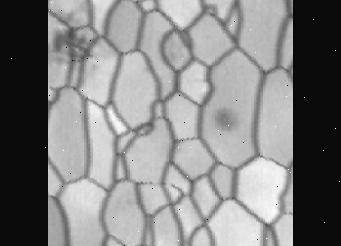good_void: (47, 16, 108, 73), (206, 97, 246, 140)
